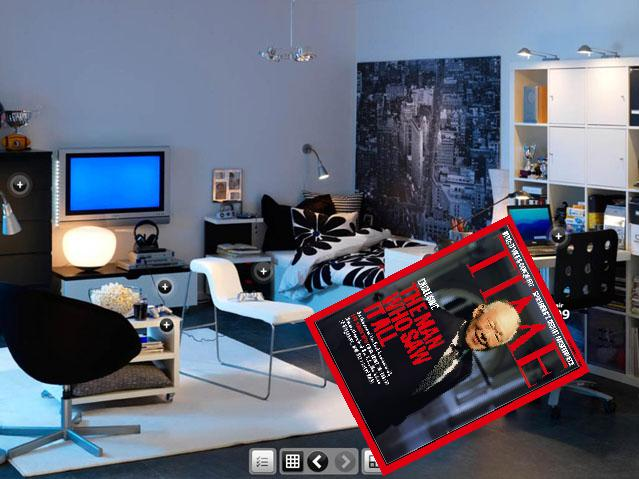times: (302, 202, 592, 474)
